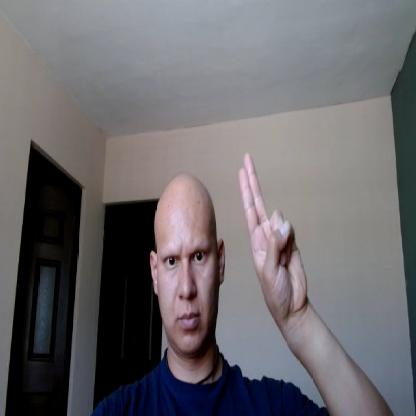U: (239, 150, 308, 316)
